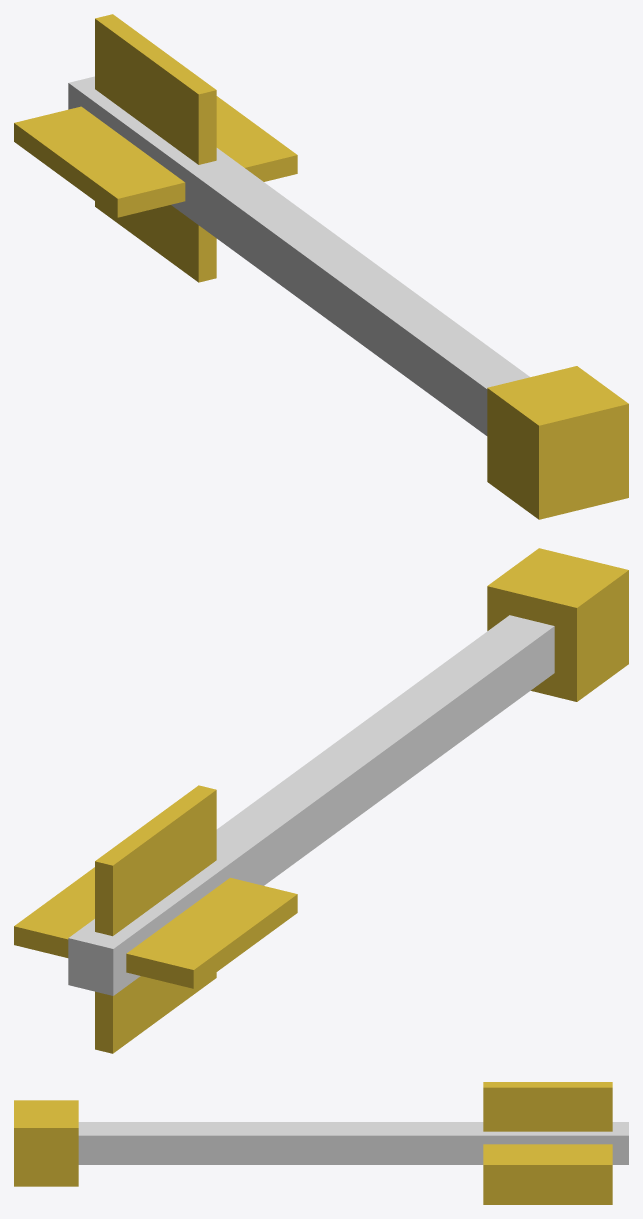
File: BlessedArrowA.fbx
The picture shows the model from 3 angles, top to bottom: view 1: azimuth 30°, elevation 25°; view 2: azimuth 150°, elevation 25°; view 3: azimuth 270°, elevation 25°; orthographic projection. The views are drawn at different scales.
Parts seen in each view (by area): view 1: Cube.001, Cube.002, Cube.005, Cube.003, Cube.006, Cube.004; view 2: Cube.001, Cube.002, Cube.005, Cube.003, Cube.006, Cube.004; view 3: Cube.001, Cube.005, Cube.002, Cube.004, Cube.006.
Boxes of the visible parts, x1,y1,x2,y2 form: Cube.001: (68, 76, 529, 435); Cube.002: (487, 366, 628, 519); Cube.005: (95, 14, 216, 164); Cube.003: (14, 106, 185, 217); Cube.006: (95, 201, 216, 282); Cube.004: (216, 96, 297, 181); Cube.001: (68, 615, 554, 995); Cube.002: (487, 548, 628, 701); Cube.005: (95, 785, 216, 936); Cube.003: (126, 877, 297, 988); Cube.006: (95, 972, 216, 1053); Cube.004: (14, 867, 94, 957); Cube.001: (78, 1122, 628, 1164); Cube.005: (483, 1082, 612, 1131); Cube.002: (14, 1100, 78, 1186); Cube.004: (483, 1144, 612, 1176); Cube.006: (483, 1176, 612, 1204).
Bounding box in the file's own units: 40 × 40 × 190.
